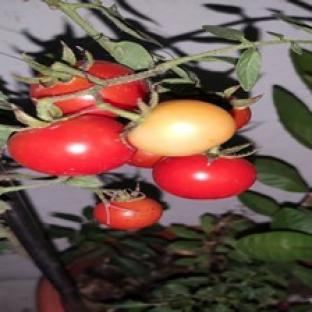Tomato: (9, 115, 133, 175), (127, 99, 235, 155), (152, 155, 256, 199), (94, 197, 162, 229), (30, 77, 93, 103), (127, 150, 162, 168), (230, 108, 252, 129)
